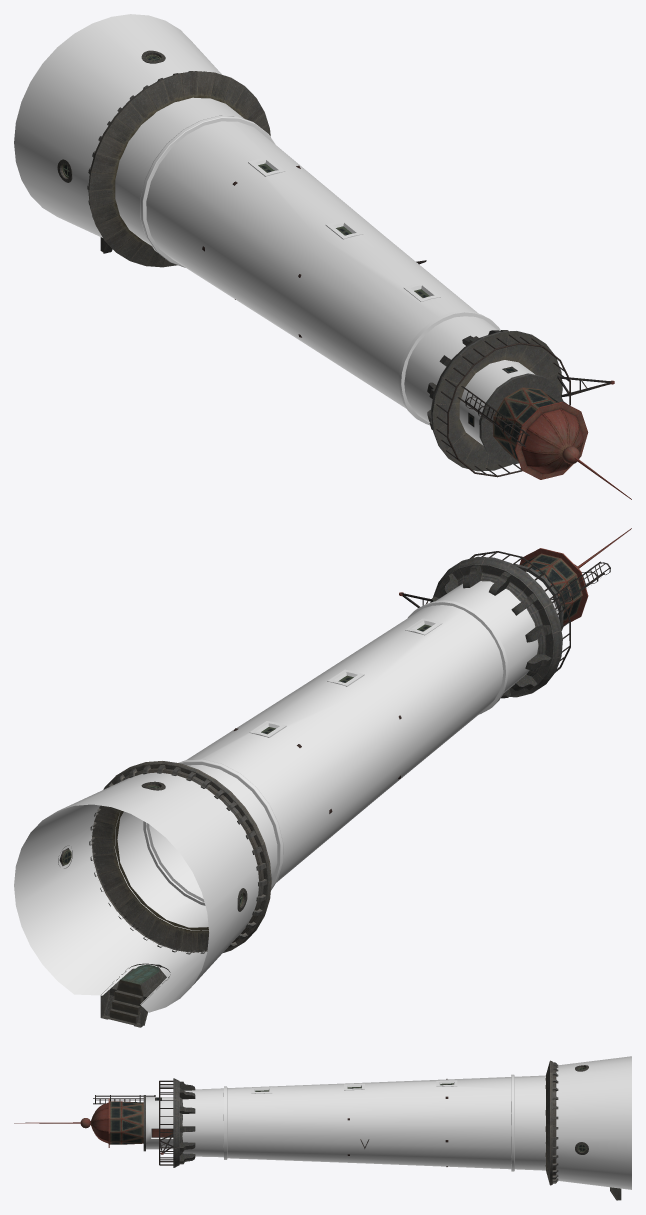
Rendered from hd_bld_EU_211_Lighthouse.glb.
The picture shows the model from 3 angles, top to bottom: view 1: azimuth 30°, elevation 25°; view 2: azimuth 150°, elevation 25°; view 3: azimuth 270°, elevation 25°; orthographic projection. The views are drawn at different scales.
Visible parts, largest first — view 1: set_0_group_3, set_0_group_2, set_0_group_0, set_0_group_1; view 2: set_0_group_3, set_0_group_0, set_0_group_2, set_0_group_1; view 3: set_0_group_3, set_0_group_0, set_0_group_2, set_0_group_1.
Boxes of the visible parts, box(x1,y1,x2,y2) form: set_0_group_3: box(115, 97, 478, 408); set_0_group_2: box(57, 50, 631, 499); set_0_group_0: box(14, 14, 221, 237); set_0_group_1: box(248, 157, 534, 445); set_0_group_3: box(114, 605, 503, 930); set_0_group_0: box(14, 772, 258, 1012); set_0_group_2: box(58, 528, 631, 1027); set_0_group_1: box(249, 571, 558, 737); set_0_group_3: box(227, 1074, 545, 1171); set_0_group_0: box(556, 1056, 631, 1189); set_0_group_2: box(14, 1060, 621, 1200); set_0_group_1: box(146, 1080, 457, 1159).
Bounding box in the file's own units: 15.24 × 15.79 × 66.8.
4 materials, 1 textured.
